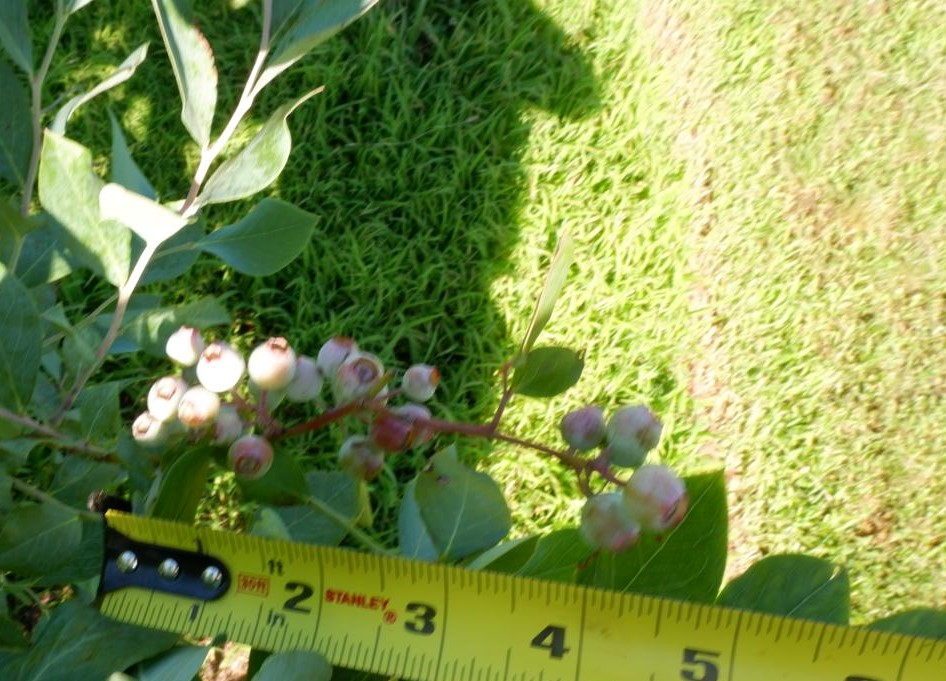Immature: (626, 465, 689, 528), (581, 494, 644, 553), (605, 405, 664, 454), (248, 336, 298, 392), (196, 342, 246, 392), (337, 353, 385, 399), (560, 407, 607, 452), (228, 437, 275, 481), (147, 376, 189, 423), (338, 438, 384, 480), (178, 384, 221, 427), (388, 406, 432, 448), (284, 357, 324, 403), (165, 324, 206, 368), (317, 337, 360, 377), (370, 416, 415, 453), (402, 364, 440, 402), (132, 412, 170, 449), (609, 437, 647, 467), (210, 411, 242, 445), (374, 384, 389, 408)
